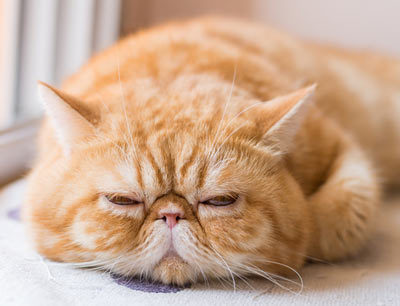British_shorthair: (12, 18, 400, 296)
